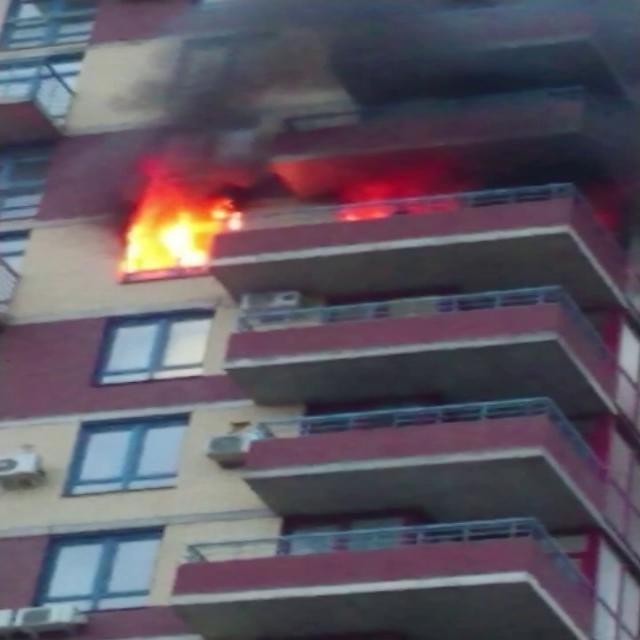Fire: (107, 180, 252, 274)
Smoke: (46, 0, 640, 198)
